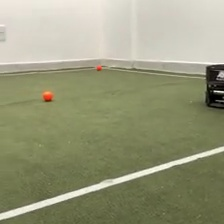ball: (41, 88, 54, 102), (94, 63, 104, 72)
robot: (203, 61, 224, 110)
